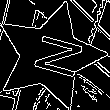N_W: (19, 29, 81, 82)
